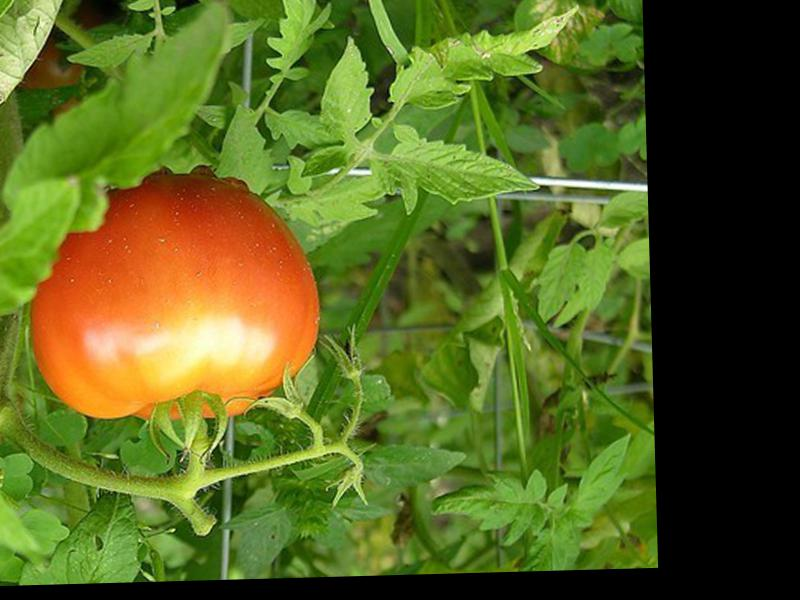Tomato: (28, 174, 319, 425)
